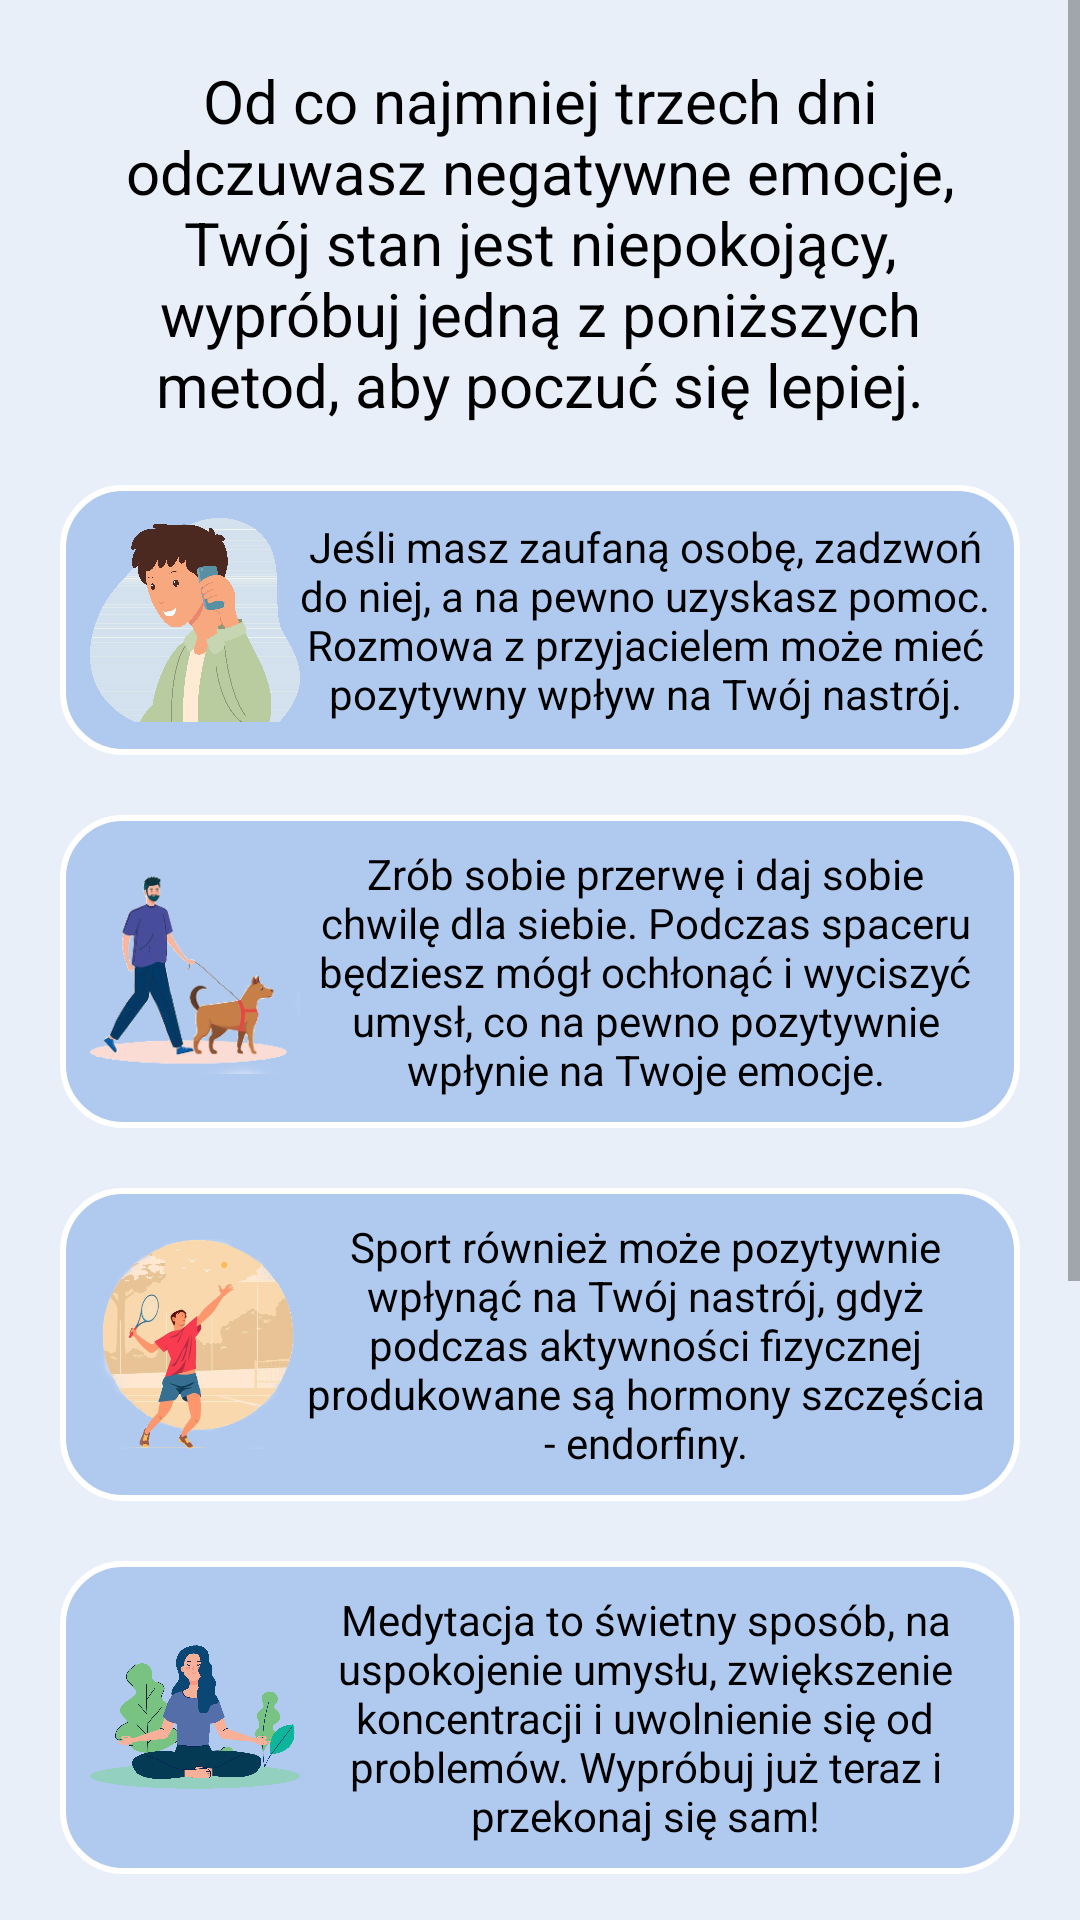

Icons on this 1080x1920 Android screen, each with the point to tap as (x,y):
call friend: (195,620)
meditation: (195,1717)
tennis: (198,1344)
walk: (188,975)
